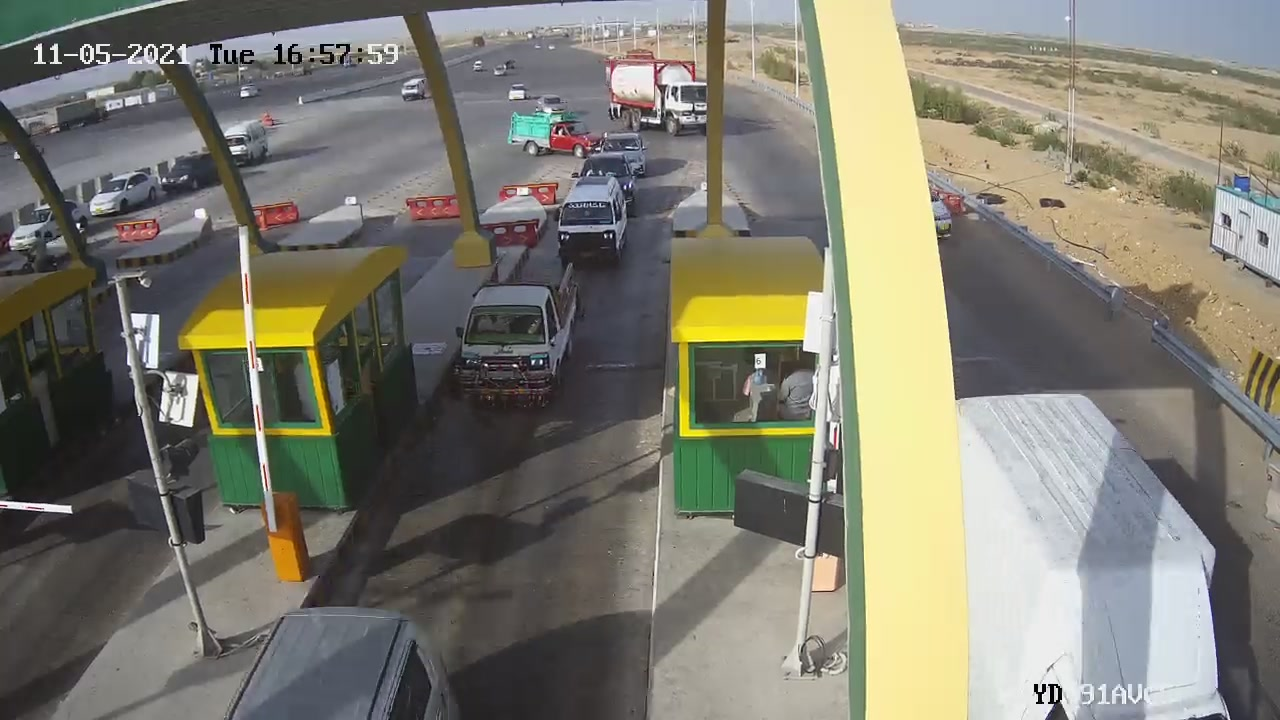F1: (539, 166, 641, 285)
